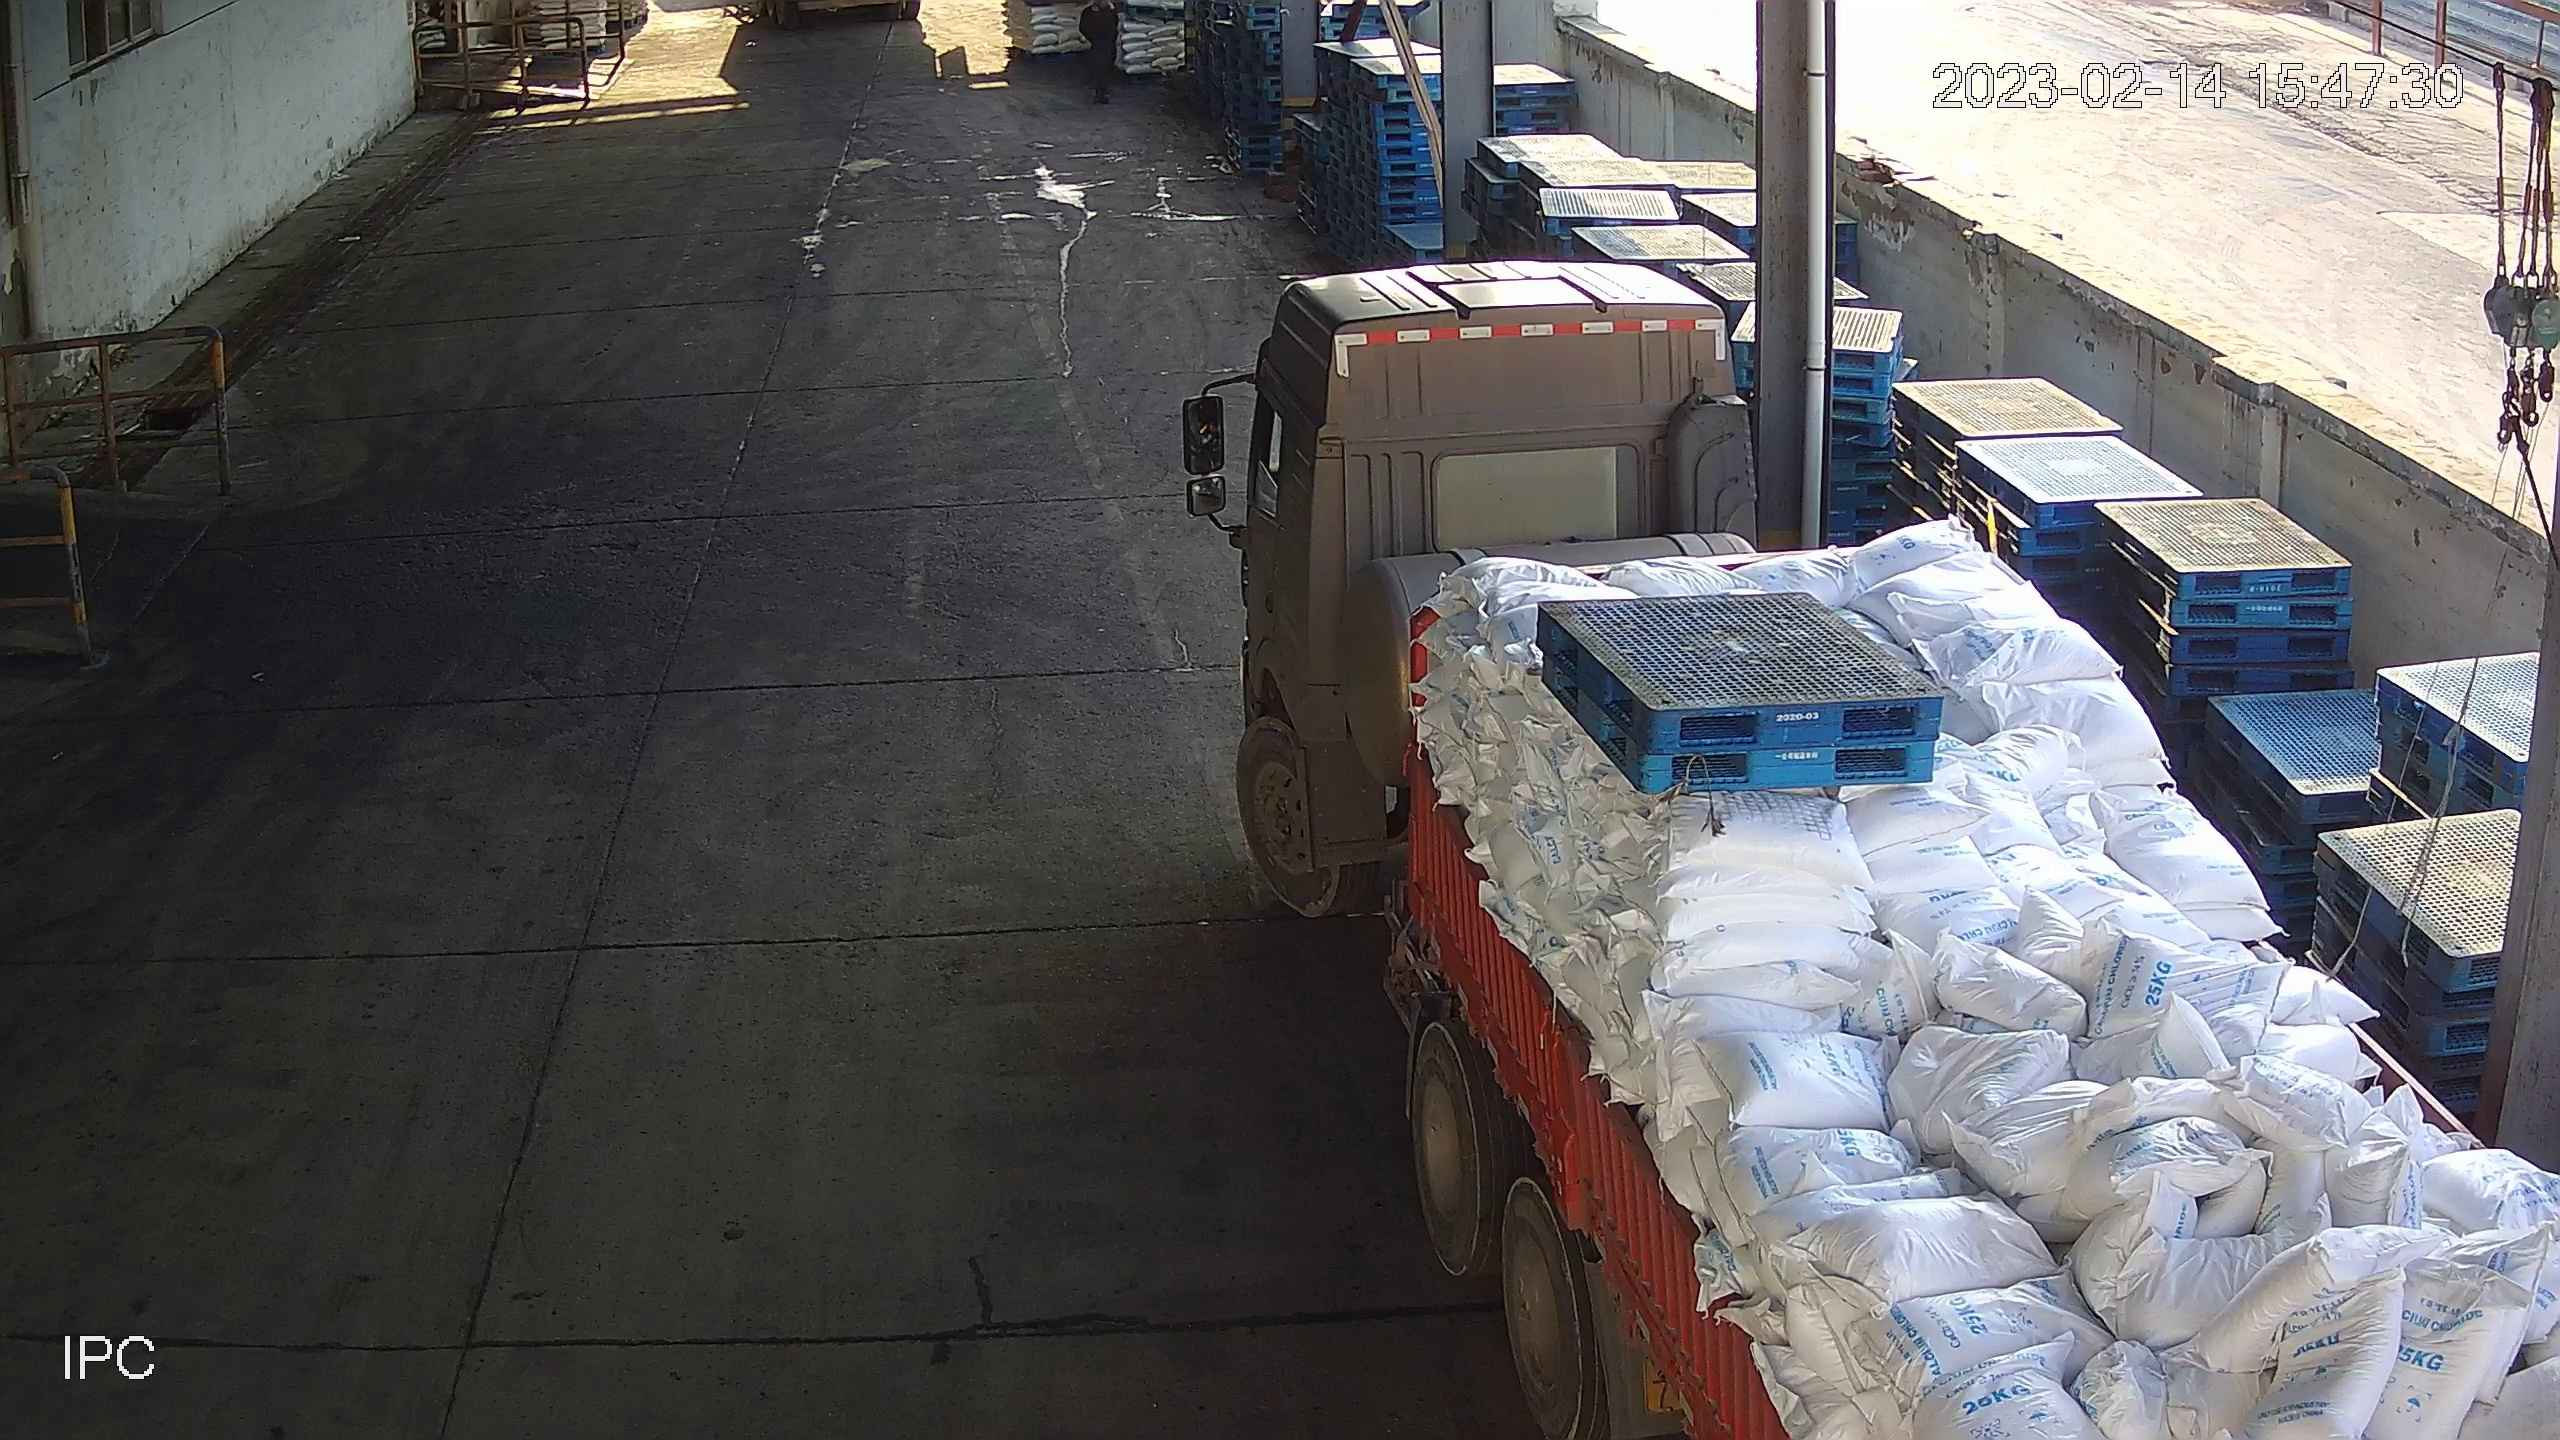truck: (1231, 257, 2560, 1440)
